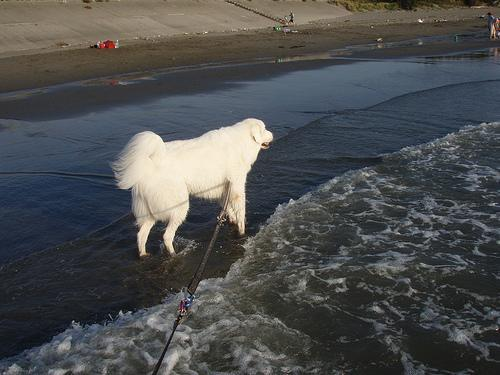Great_Pyrenees: (113, 117, 273, 258)
